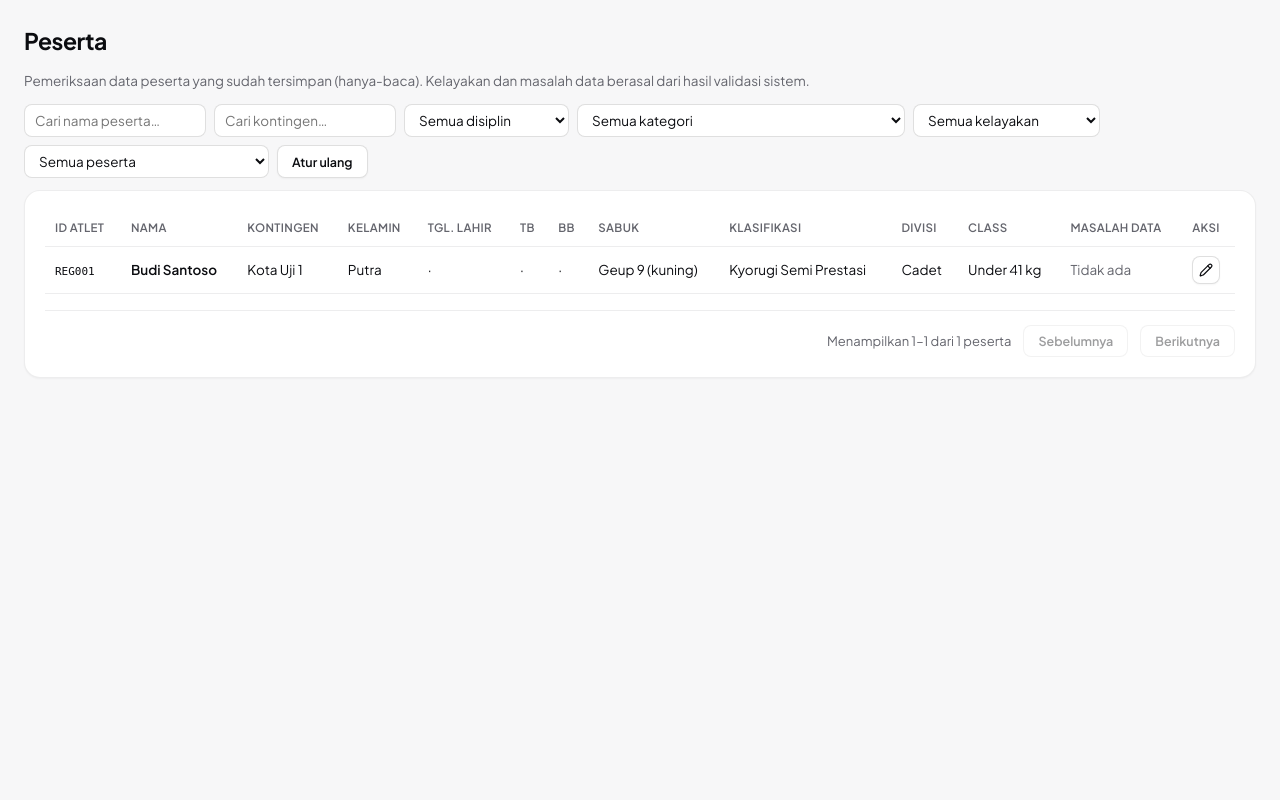
Test: PesertaPage › opens Perbaiki, edits a field, saves via correctEntry, and reloads the list
Expected: the row with test id "entry-row" is shown, [45,247,1235,294]
Click the button named "Perbaiki data Budi Santoso".
click(1206, 270)  # box [1192,256,1220,284]
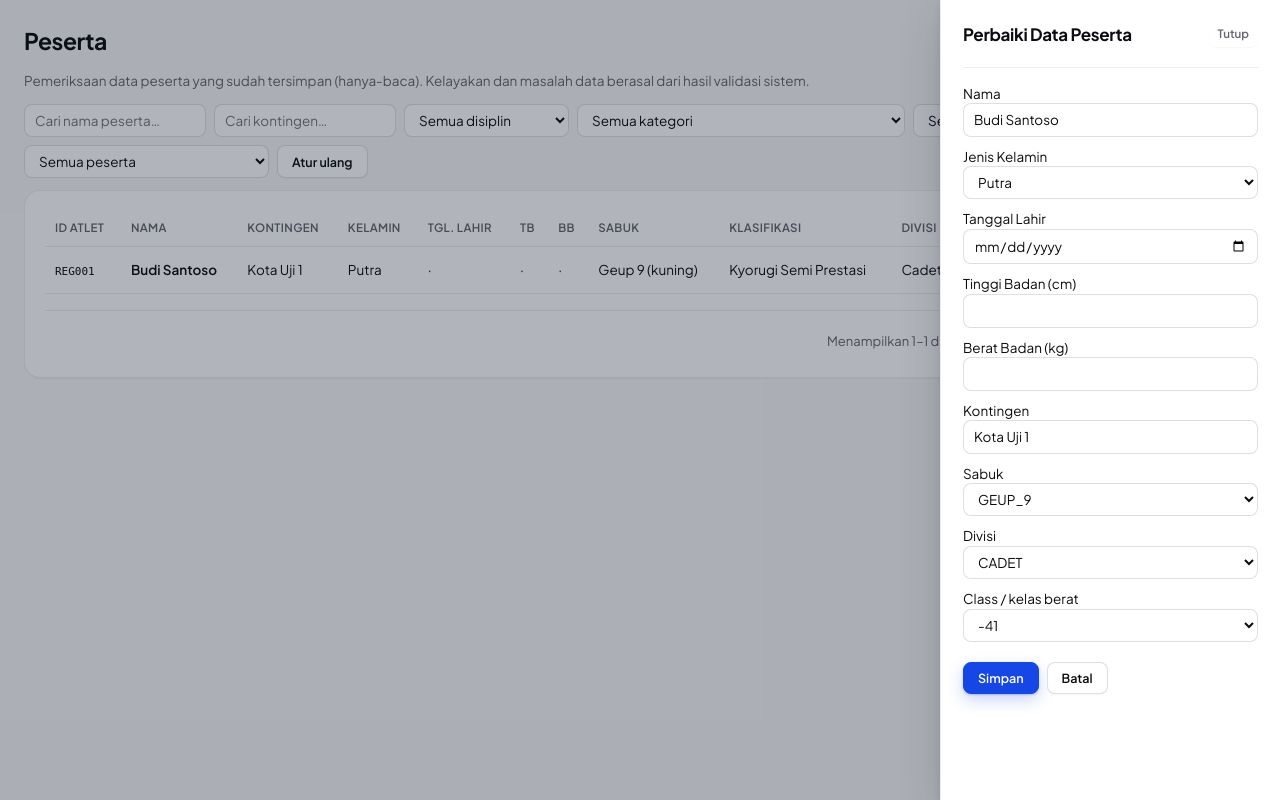
Type "45.5" into the number field labelled "Berat Badan (kg)".
click(1110, 374); type("45.5")  # box [963,357,1258,391]
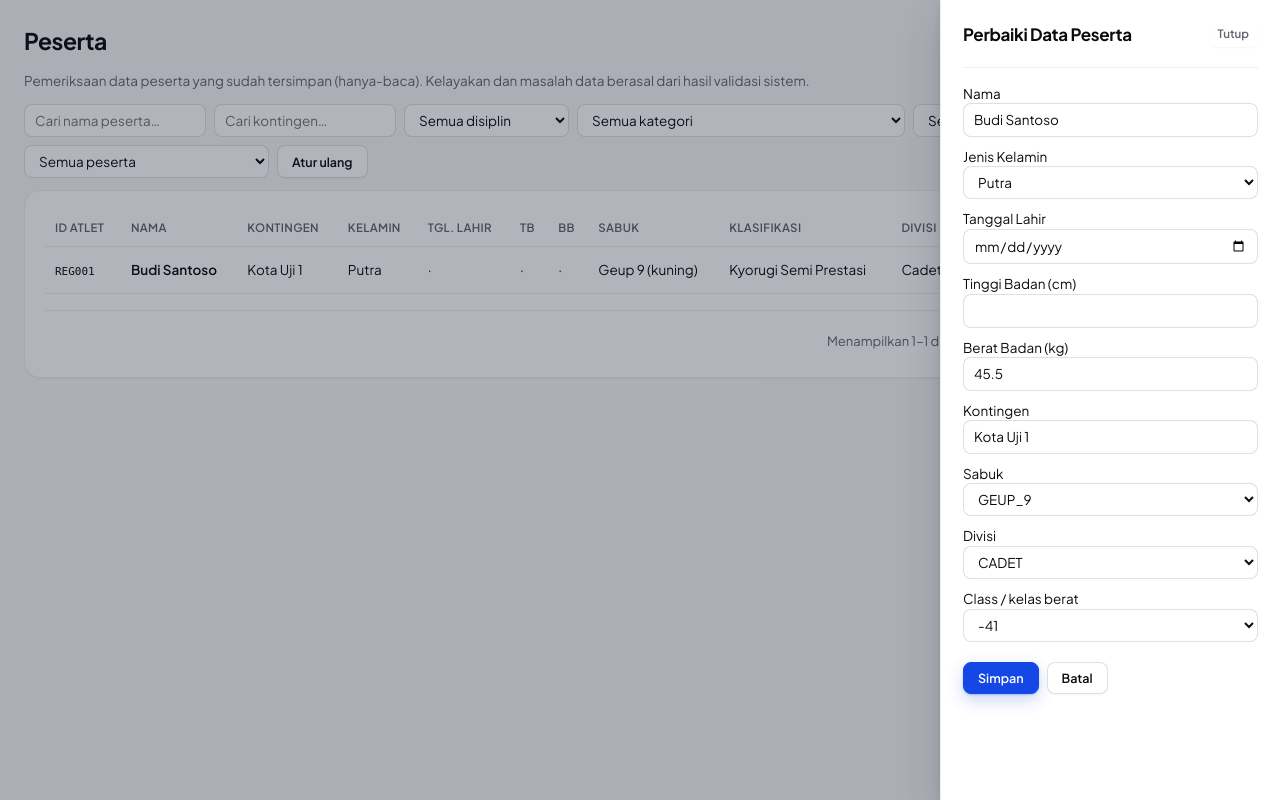
Click the button "Simpan".
click(1001, 678)  # box [963,662,1039,694]
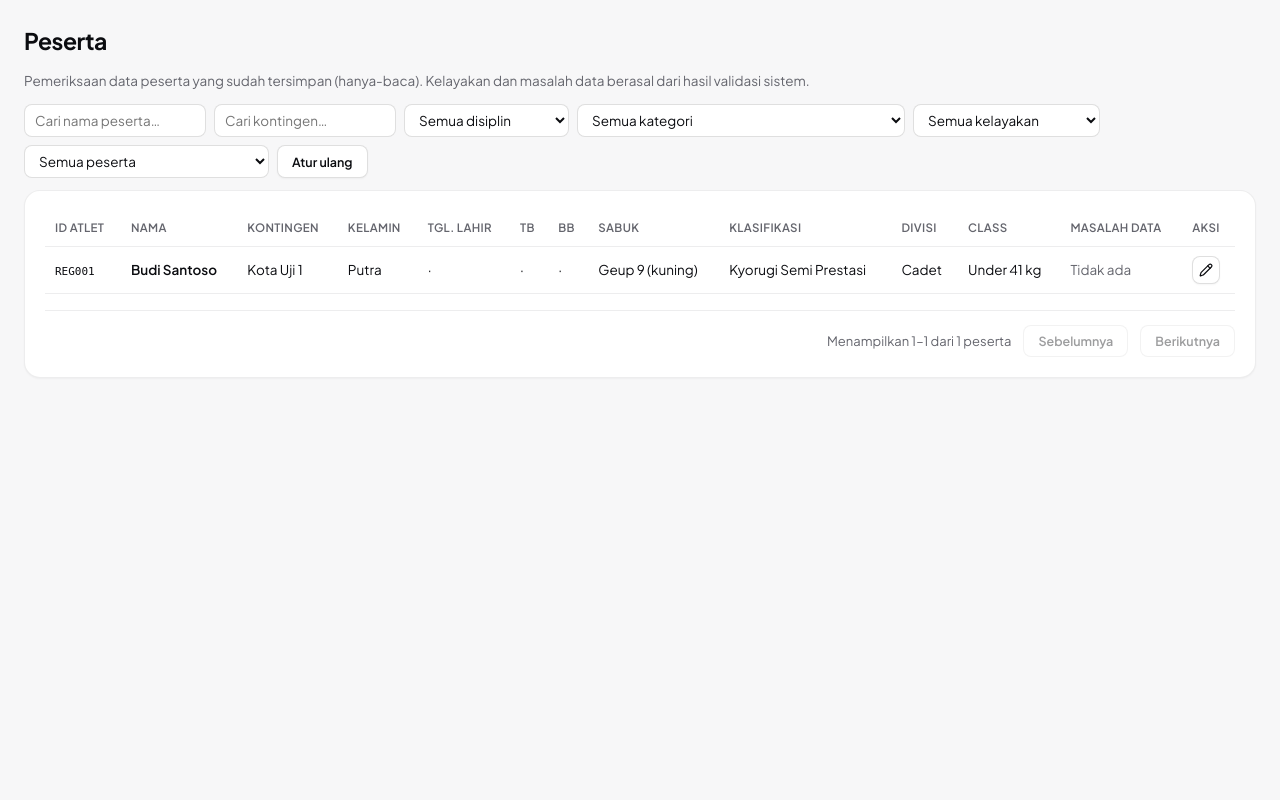
Expected: the heading "Perbaiki Data Peserta" is gone
